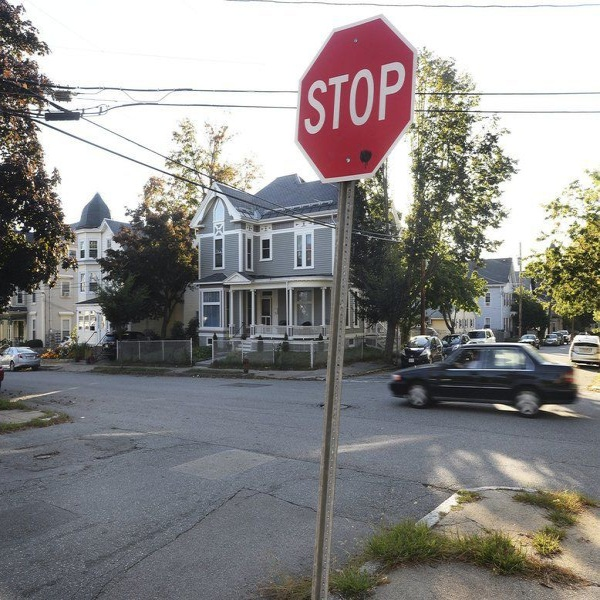stop: (297, 15, 419, 181)
